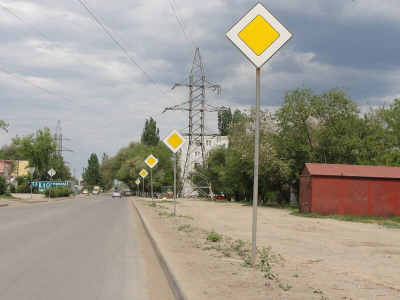priority_road: (231, 8, 285, 61), (166, 131, 184, 151), (146, 156, 157, 166), (140, 170, 147, 177)
